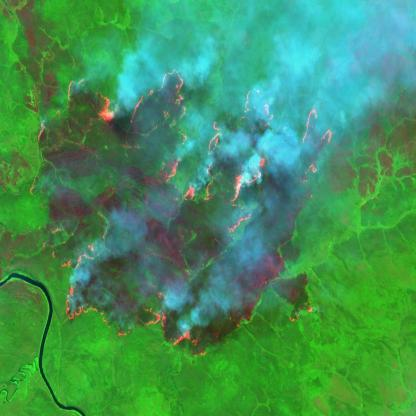fire: (31, 63, 342, 362)
